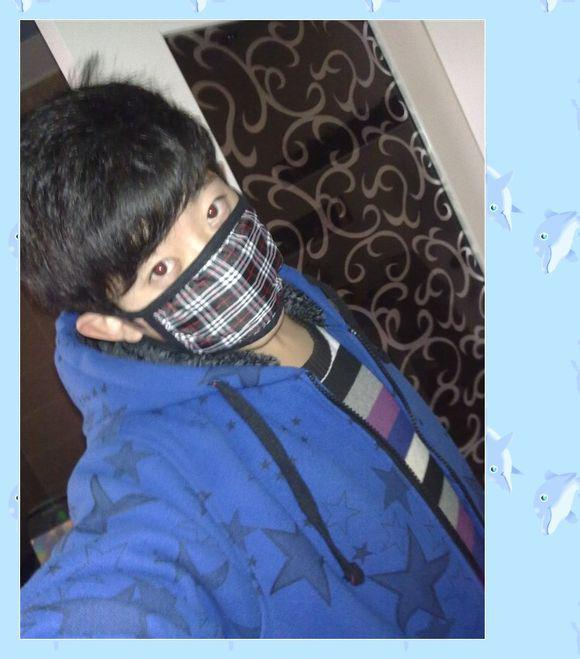OK: (106, 167, 289, 348)
